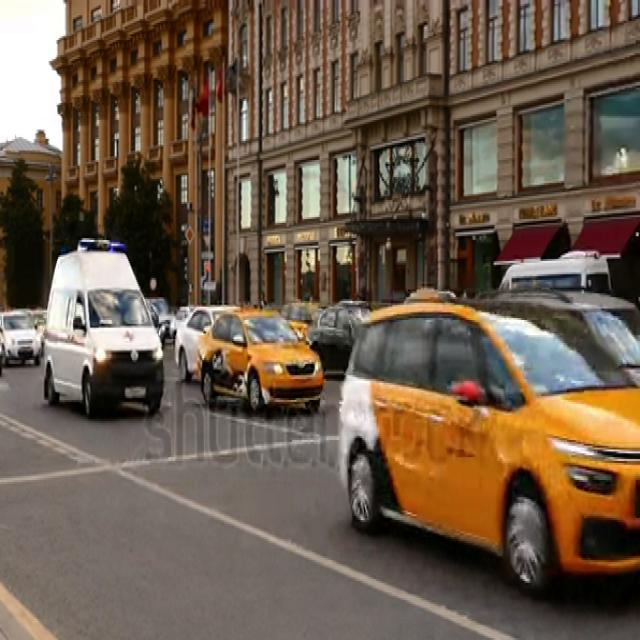ambulance: (37, 236, 166, 419)
